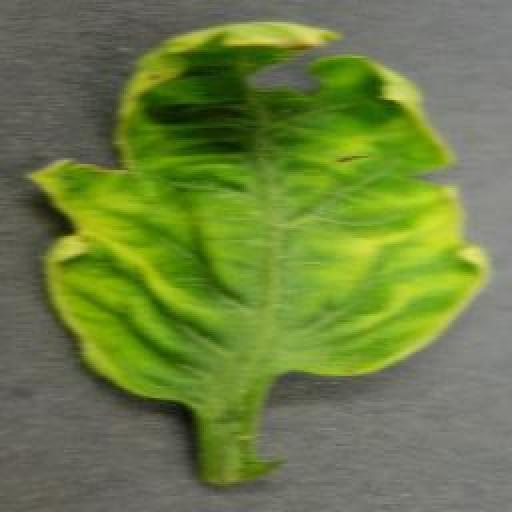disease_tomato: (22, 22, 491, 406)
